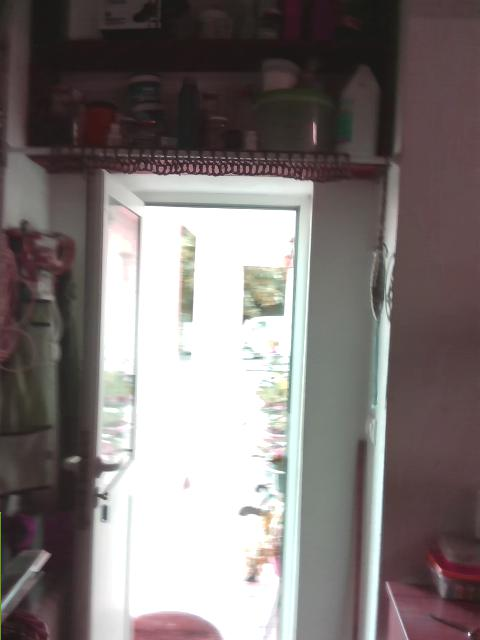open_door: (103, 183, 310, 638)
